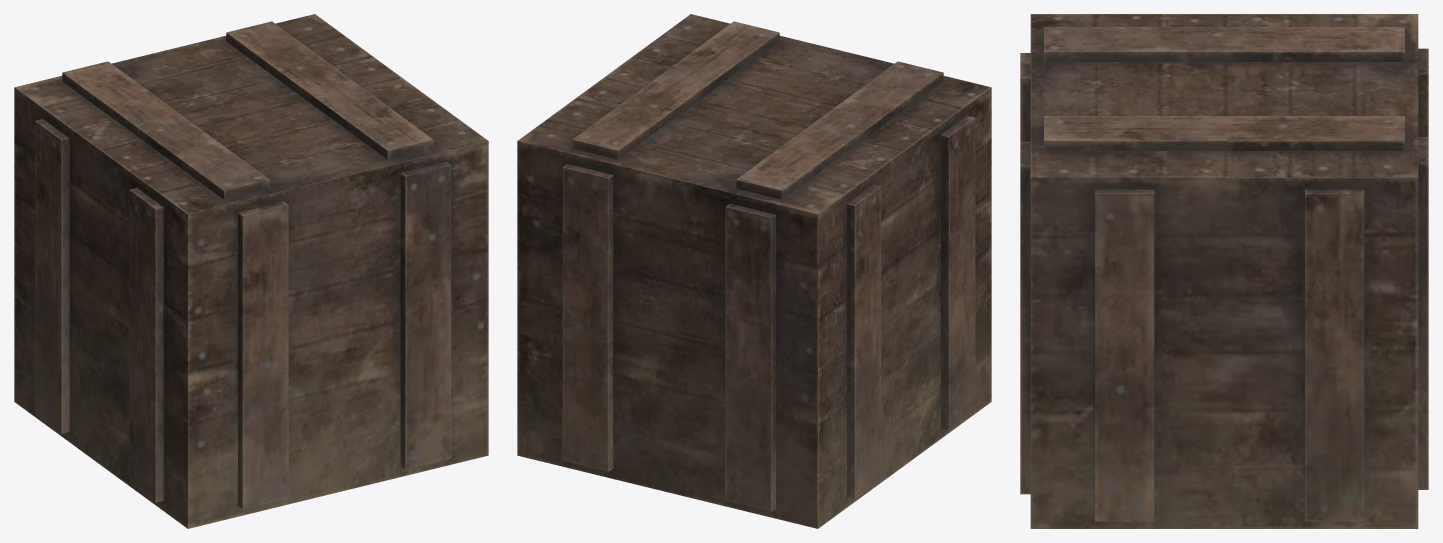
File: SHO_General_Store_Crate-transformed.glb
The picture shows the model from 3 angles, left to right: view 1: azimuth 30°, elevation 25°; view 2: azimuth 150°, elevation 25°; view 3: azimuth 270°, elevation 25°; orthographic projection. The views are drawn at different scales.
Parts seen in each view (by area): view 1: default; view 2: default; view 3: default.
Part boxes in pixels (box(x1,y1,x2,y2)): default: box(14, 14, 488, 528); default: box(517, 14, 991, 528); default: box(1020, 14, 1428, 528).
Size of the model in its own units: 0.6522 by 0.6365 by 0.6522.
Materials: 1 (1 with a texture image).
